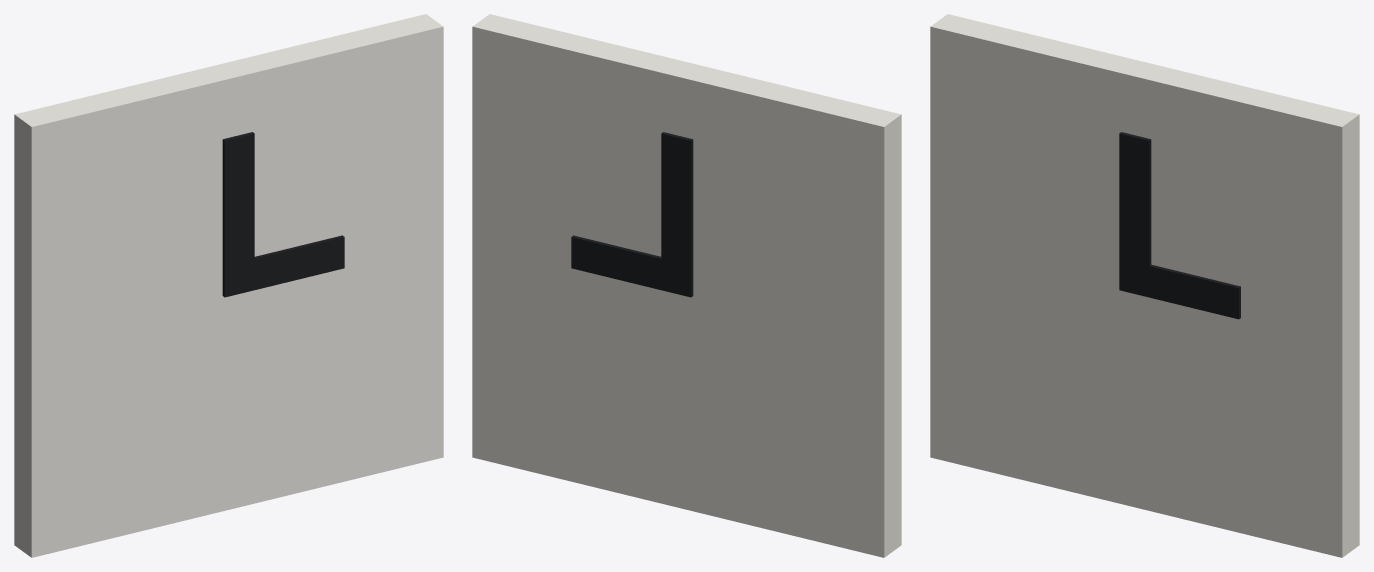
The model's file is Clock.fbx.
3 renders of one model, left to right at view 1: azimuth 30°, elevation 25°; view 2: azimuth 150°, elevation 25°; view 3: azimuth 330°, elevation 25°, orthographic.
Visible parts, largest first — view 1: Clock_Mesh; view 2: Clock_Mesh; view 3: Clock_Mesh.
Boxes of the visible parts, left/top/right/bottom form: Clock_Mesh: left=14, top=14, right=443, bottom=557; Clock_Mesh: left=472, top=14, right=901, bottom=557; Clock_Mesh: left=930, top=14, right=1359, bottom=557.
Bounding box in the file's own units: 1.1 × 1.1 × 0.1.
Materials: 1 (1 with a texture image).
